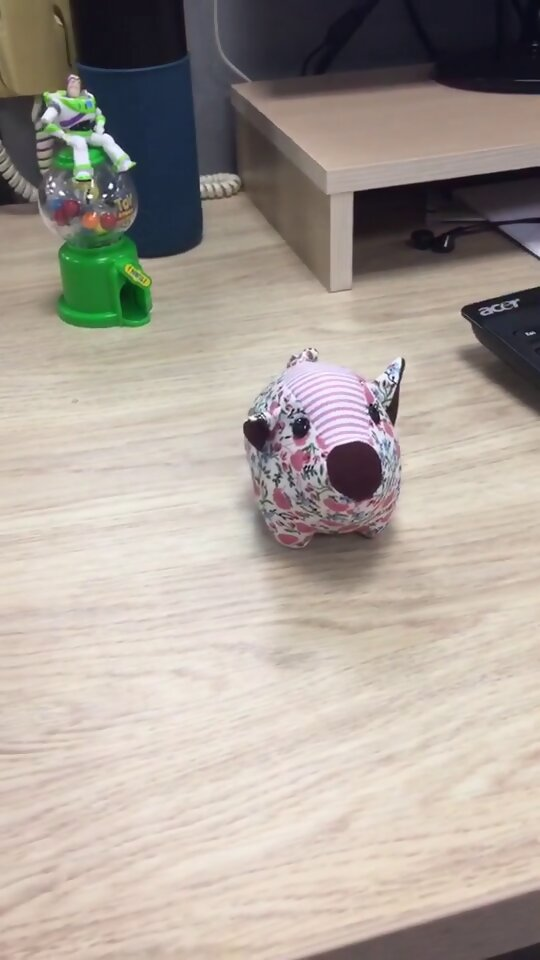pig: (236, 343, 405, 558)
